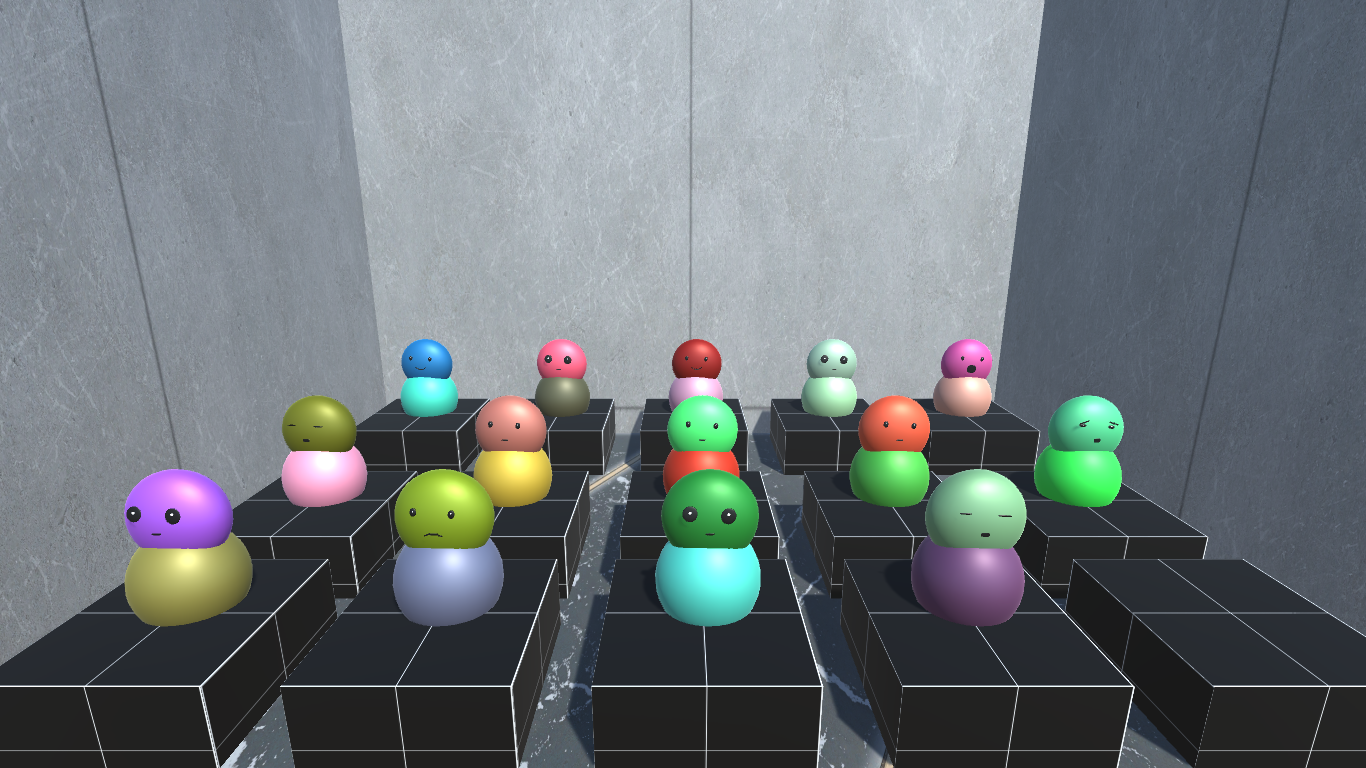blob_atento: (122, 467, 236, 554), (654, 469, 765, 552), (801, 333, 860, 380), (534, 337, 589, 381)
blob_dormindo: (920, 465, 1027, 559), (278, 393, 362, 456)
blob_entediado: (1046, 390, 1133, 456)
blob_feliz: (401, 335, 452, 382), (669, 336, 720, 383)
blob_normal: (855, 391, 937, 462), (469, 394, 548, 457), (662, 393, 742, 455)
blob_surpreso: (939, 335, 994, 382)
blob_triste: (387, 464, 494, 557)
